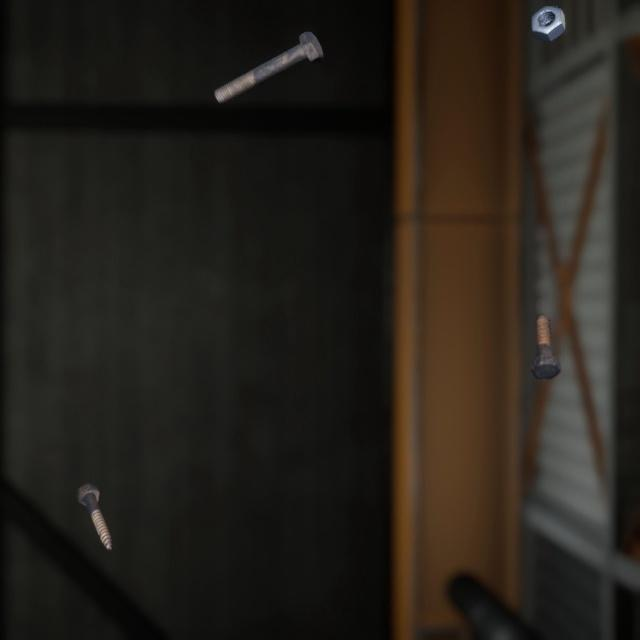bolt: (209, 15, 327, 97), (72, 457, 117, 532), (525, 292, 565, 365)
nut: (526, 0, 570, 38)
